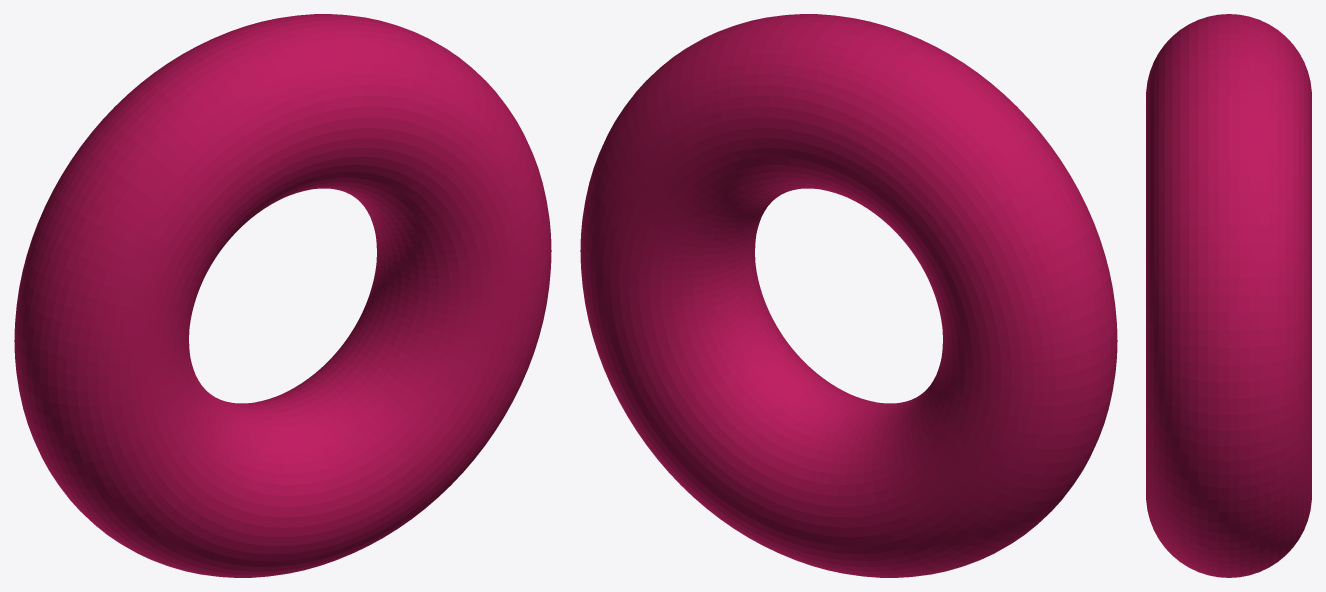
The picture shows the model from 3 angles, left to right: view 1: azimuth 30°, elevation 25°; view 2: azimuth 150°, elevation 25°; view 3: azimuth 270°, elevation 25°; orthographic projection. The views are drawn at different scales.
Parts seen in each view (by area): view 1: world; view 2: world; view 3: world.
Boxes of the visible parts, x1,y1,x2,y2 form: world: (14,14,551,577); world: (580,14,1117,577); world: (1146,14,1311,577).
Bounding box in the file's own units: 33.07 × 33.07 × 9.71.
